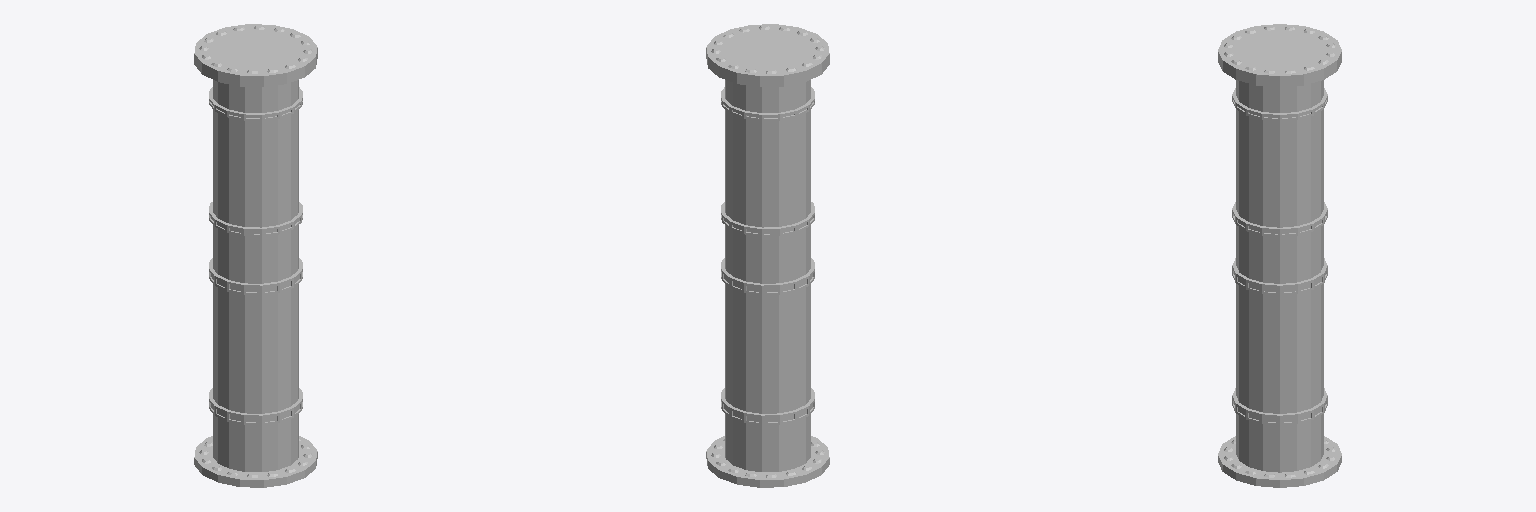
File: pipeline.obj
3 renders of one model, left to right at view 1: azimuth 30°, elevation 25°; view 2: azimuth 150°, elevation 25°; view 3: azimuth 270°, elevation 25°, orthographic.
Visible parts, largest first — view 1: Cylinder1; view 2: Cylinder1; view 3: Cylinder1.
Part boxes in pixels (left/top/right/bottom): Cylinder1: left=194, top=24, right=317, bottom=487; Cylinder1: left=706, top=24, right=829, bottom=487; Cylinder1: left=1218, top=24, right=1341, bottom=487.
Size of the model in its own units: 1.16 by 4.28 by 1.16.